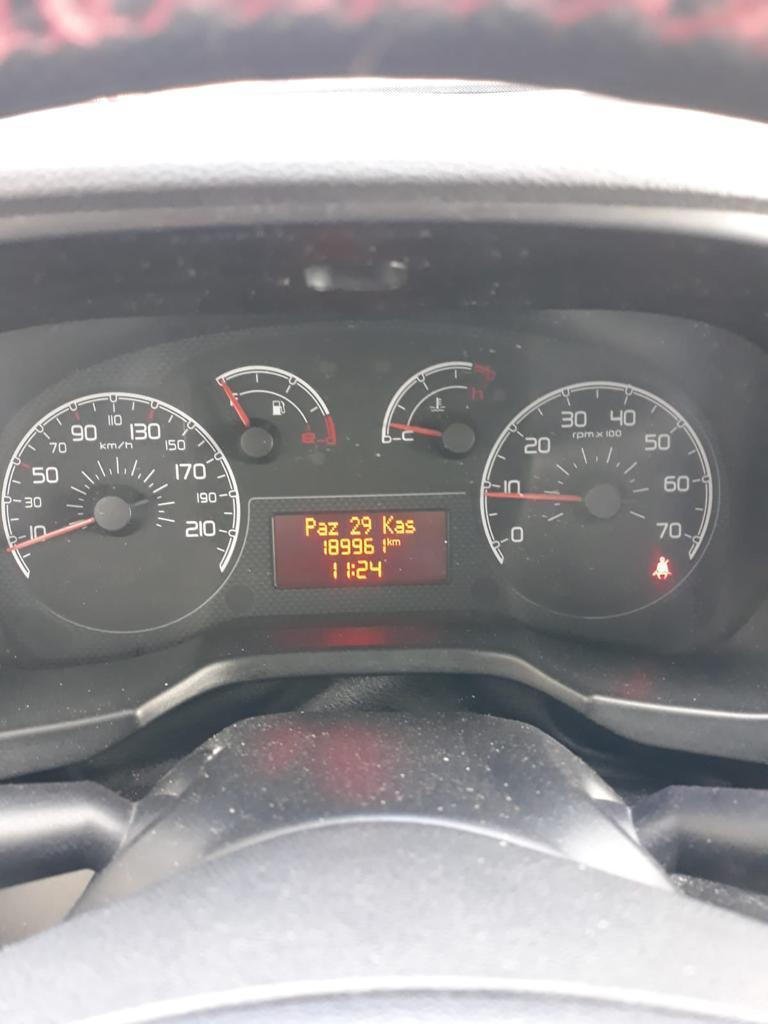1: (332, 560, 339, 580), (345, 560, 350, 579), (382, 537, 386, 554), (323, 538, 327, 555)
2: (349, 515, 361, 535), (356, 559, 368, 579)
4: (369, 559, 382, 578)
6: (363, 537, 374, 555)
8: (327, 538, 339, 556)
9: (361, 515, 372, 535), (351, 537, 363, 554), (339, 537, 351, 554)
X: (304, 516, 316, 536), (382, 514, 393, 535), (327, 520, 339, 536), (404, 518, 415, 534), (316, 521, 327, 536), (394, 519, 404, 535), (350, 562, 355, 577), (392, 538, 401, 546), (387, 537, 392, 546)
odometer: (264, 506, 456, 588)
